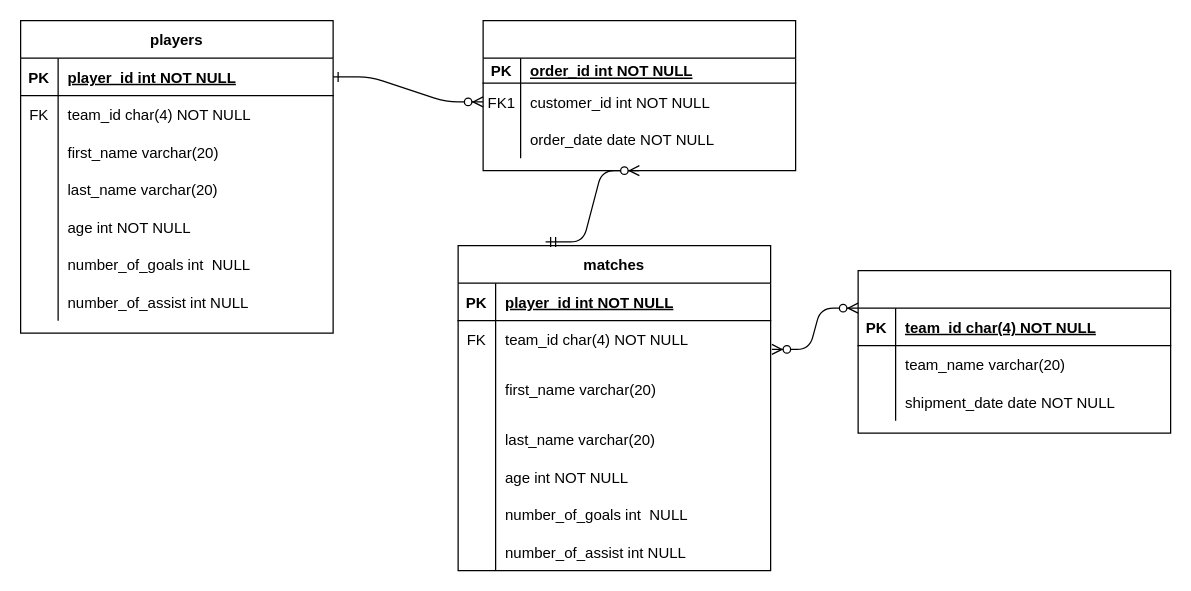
The diagram is 1191 pixels wide and 591 high, and some of its shapes have lost their labels. The shapes that lost their labels are listed below. From the top down, each one's box as (x1, y1, x2, y2) in pixels, then its label:
(482, 19, 796, 171): goals_scored
(857, 269, 1171, 433): teams
